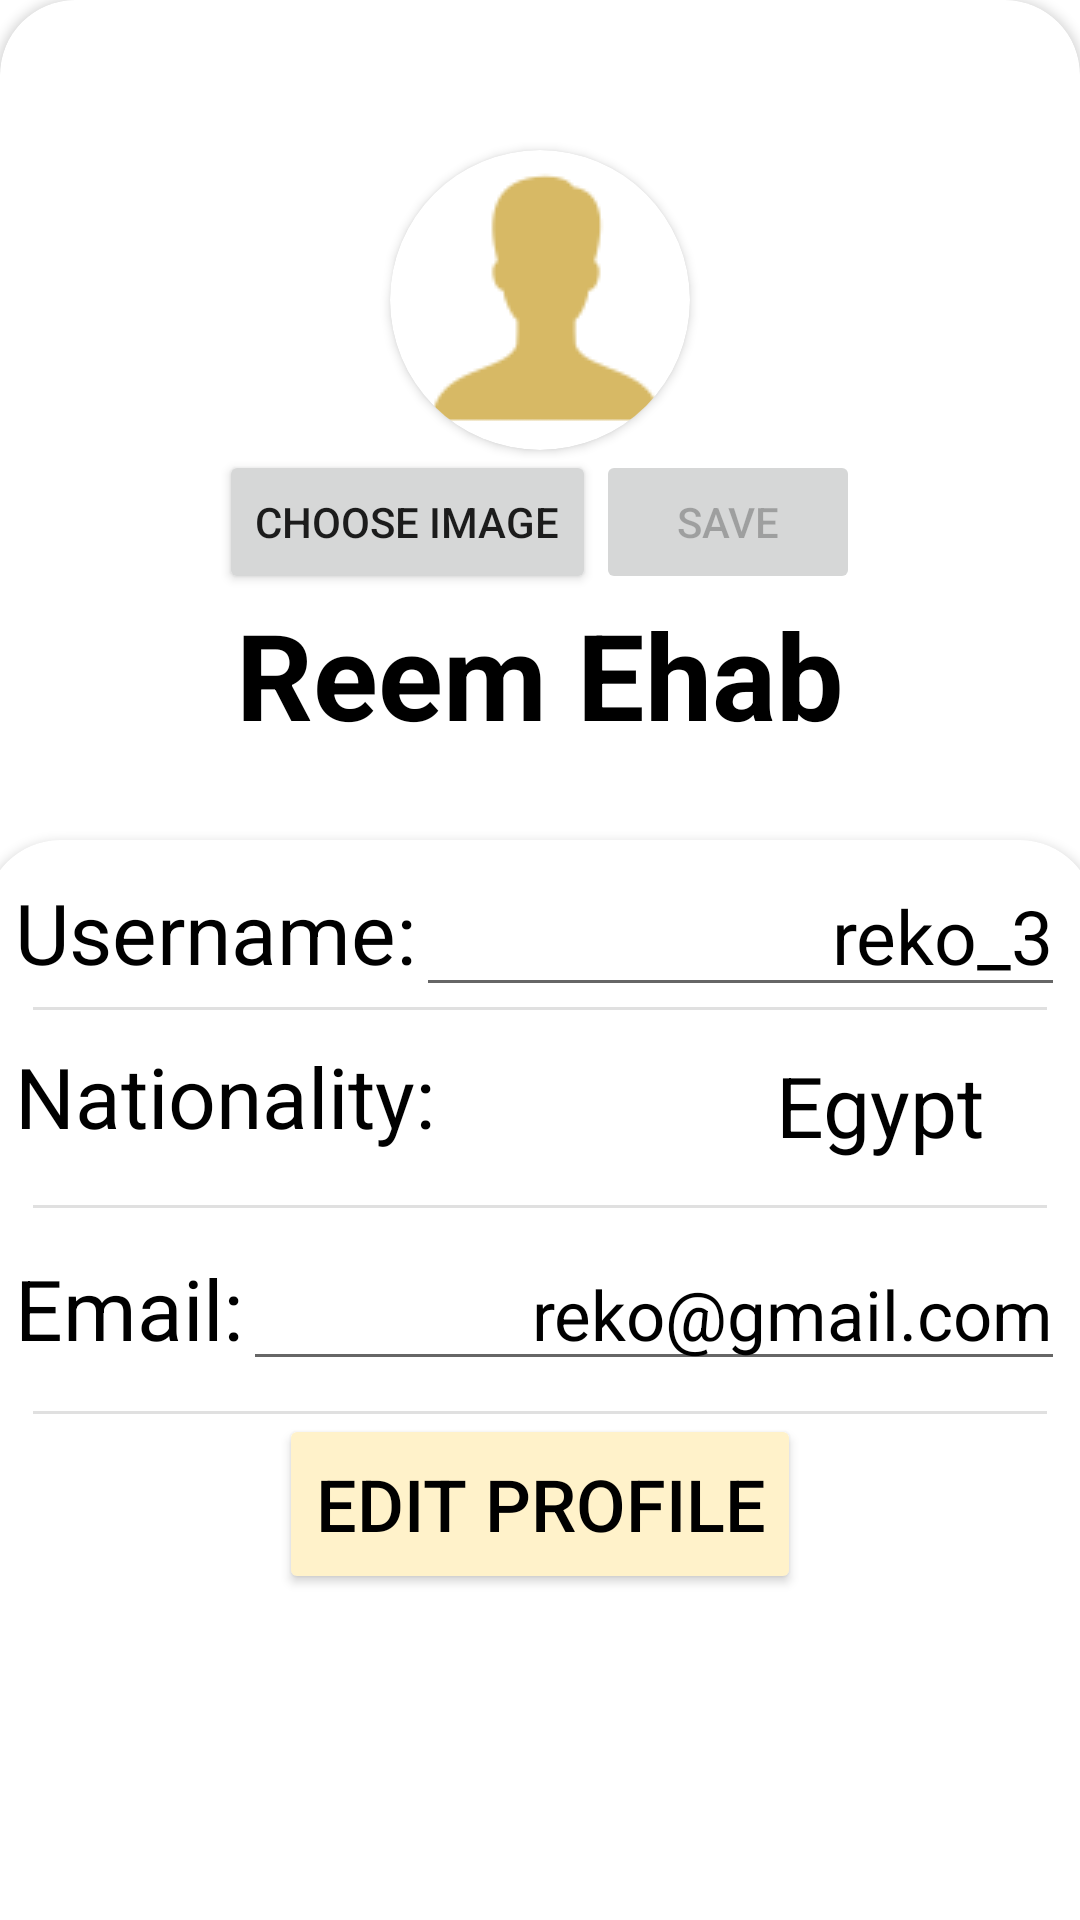

Screen size 1080x1920. Icon name, then its center in pixels as [x,y]:
profile: [540,312]
